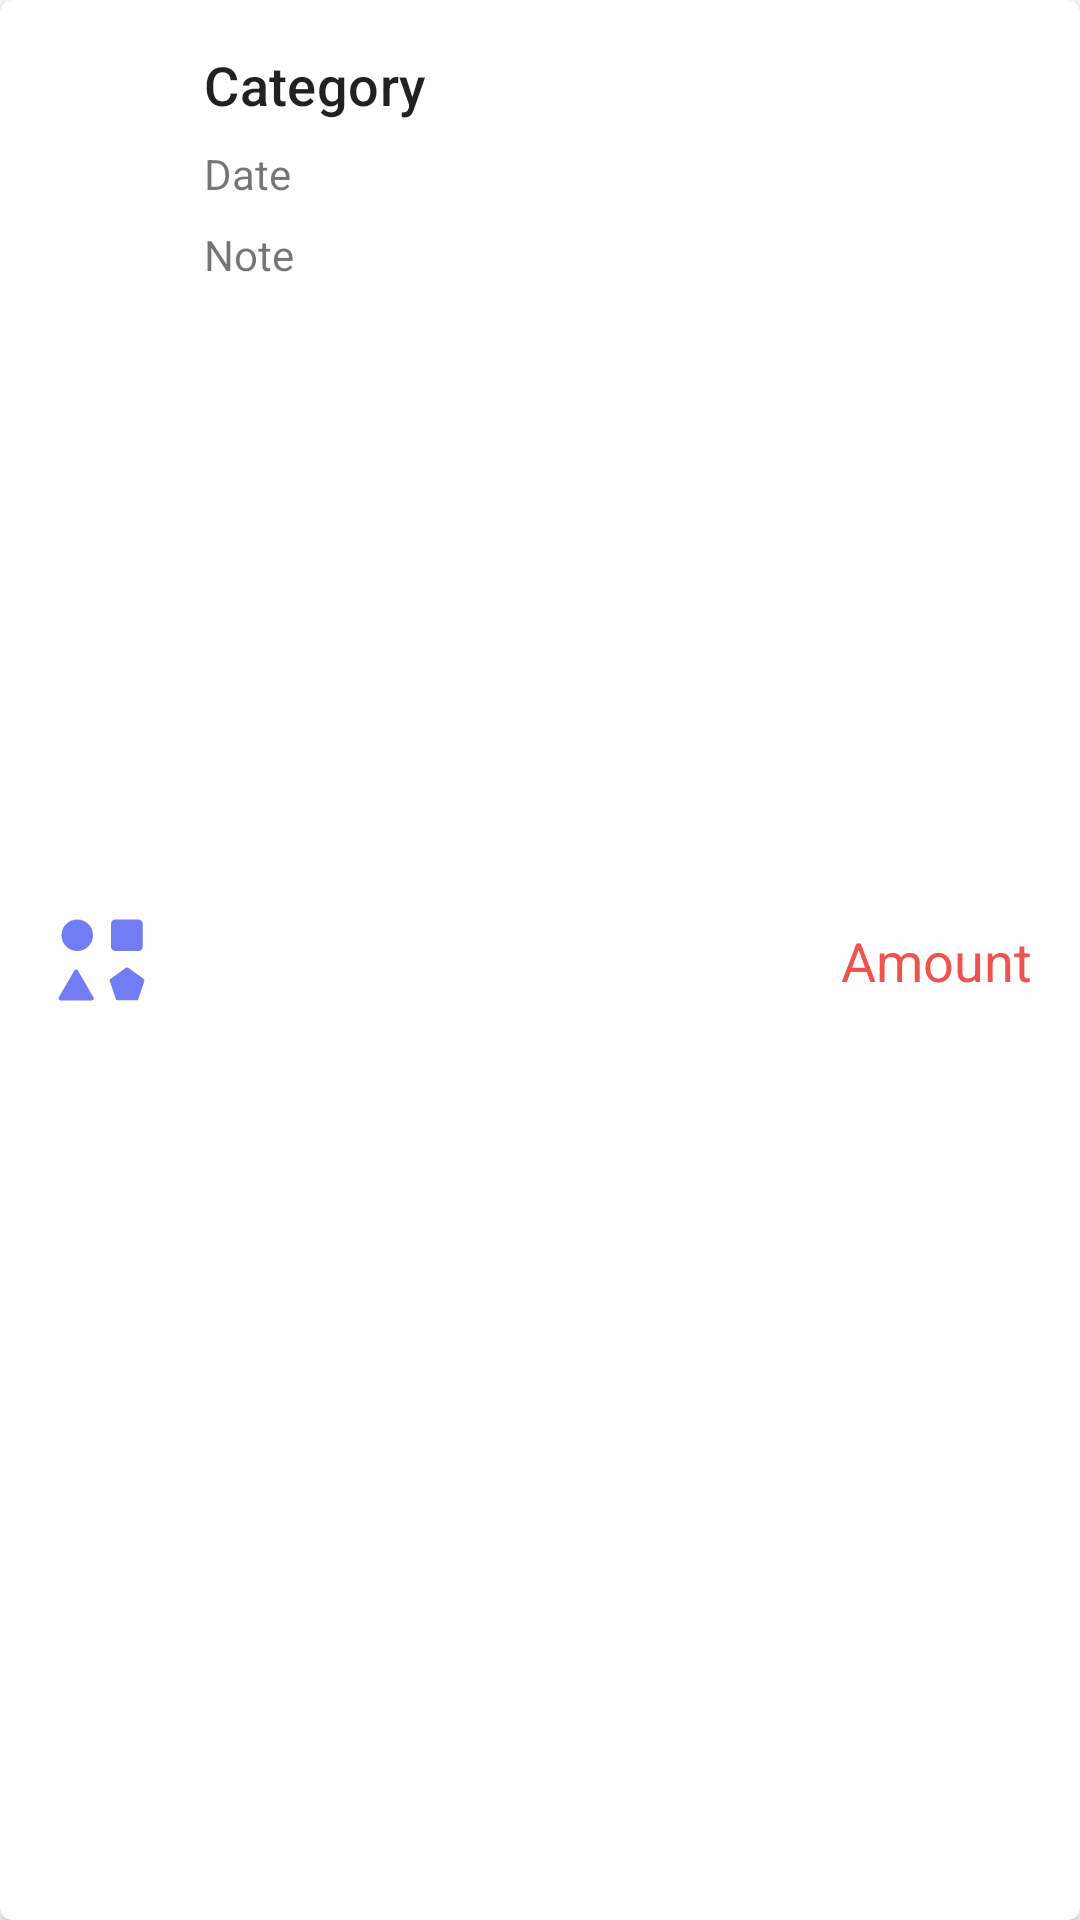

Screen size 1080x1920. Icon name, then its box in pixels as (x1, y1, x2, y2):
misc: (58, 919, 145, 1001)
